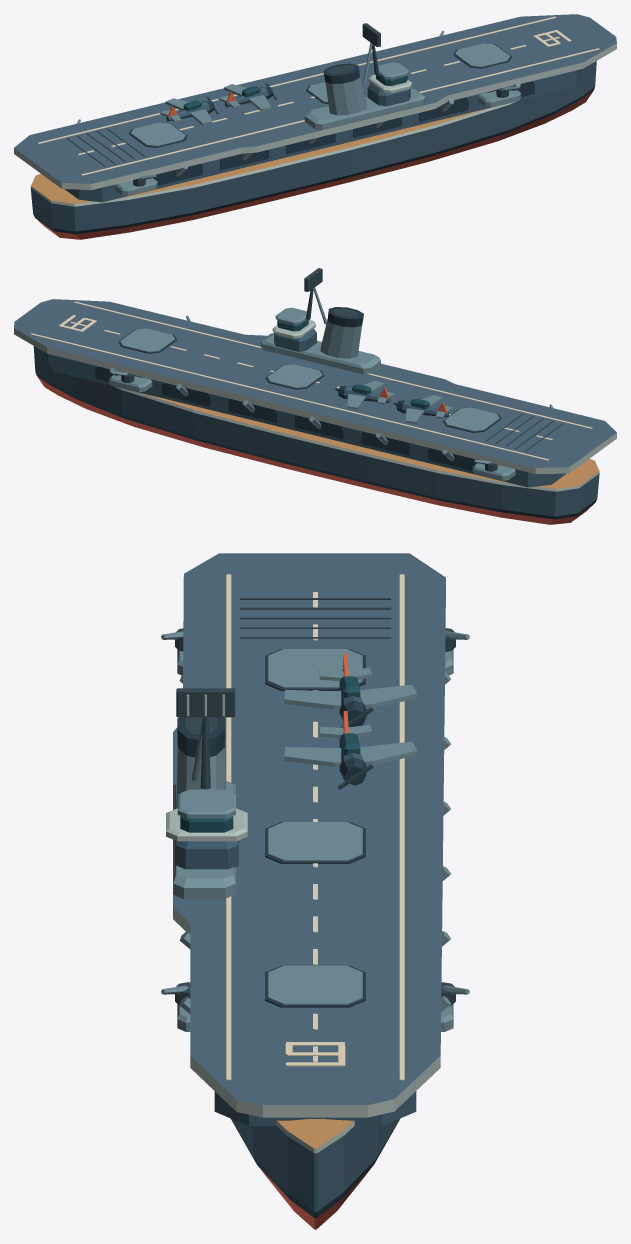
The model's file is enterprise_cv6.glb.
3 views of the same model, one above another, from view 1: azimuth 30°, elevation 25°; view 2: azimuth 150°, elevation 25°; view 3: azimuth 270°, elevation 25° (orthographic). The views are drawn at different scales.
Parts seen in each view (by area): view 1: enterprise_cv6; view 2: enterprise_cv6; view 3: enterprise_cv6.
Part boxes in pixels (box(x1,y1,x2,y2)): enterprise_cv6: box(14, 14, 616, 239); enterprise_cv6: box(14, 268, 616, 524); enterprise_cv6: box(161, 553, 469, 1229).
Bounding box in the file's own units: 3.88 × 1.04 × 0.9182.
